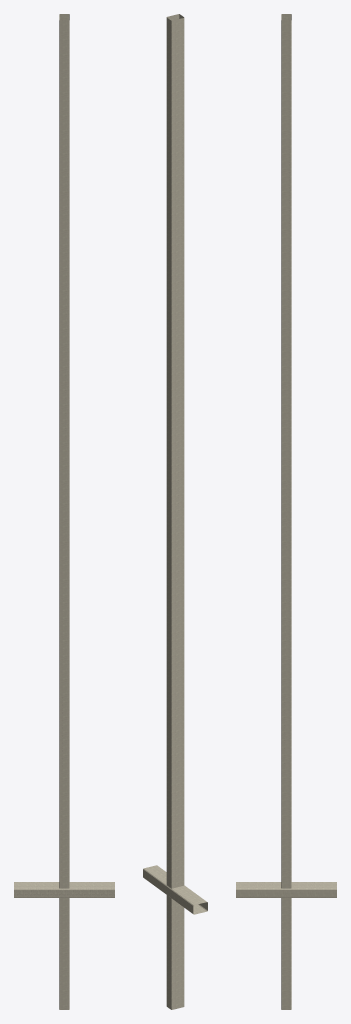
The model's file is ArchBase48m.FBX.
The picture shows the model from 3 angles, left to right: view 1: azimuth 90°, elevation 25°; view 2: azimuth 210°, elevation 25°; view 3: azimuth 270°, elevation 25°; orthographic projection.
Parts seen in each view (by area): view 1: ArchBase48m; view 2: ArchBase48m; view 3: ArchBase48m.
Boxes of the visible parts, left/top/right/bottom form: ArchBase48m: left=14, top=14, right=114, bottom=1009; ArchBase48m: left=143, top=14, right=207, bottom=1009; ArchBase48m: left=236, top=14, right=336, bottom=1009.
Size of the model in its own units: 8 by 520 by 48.
